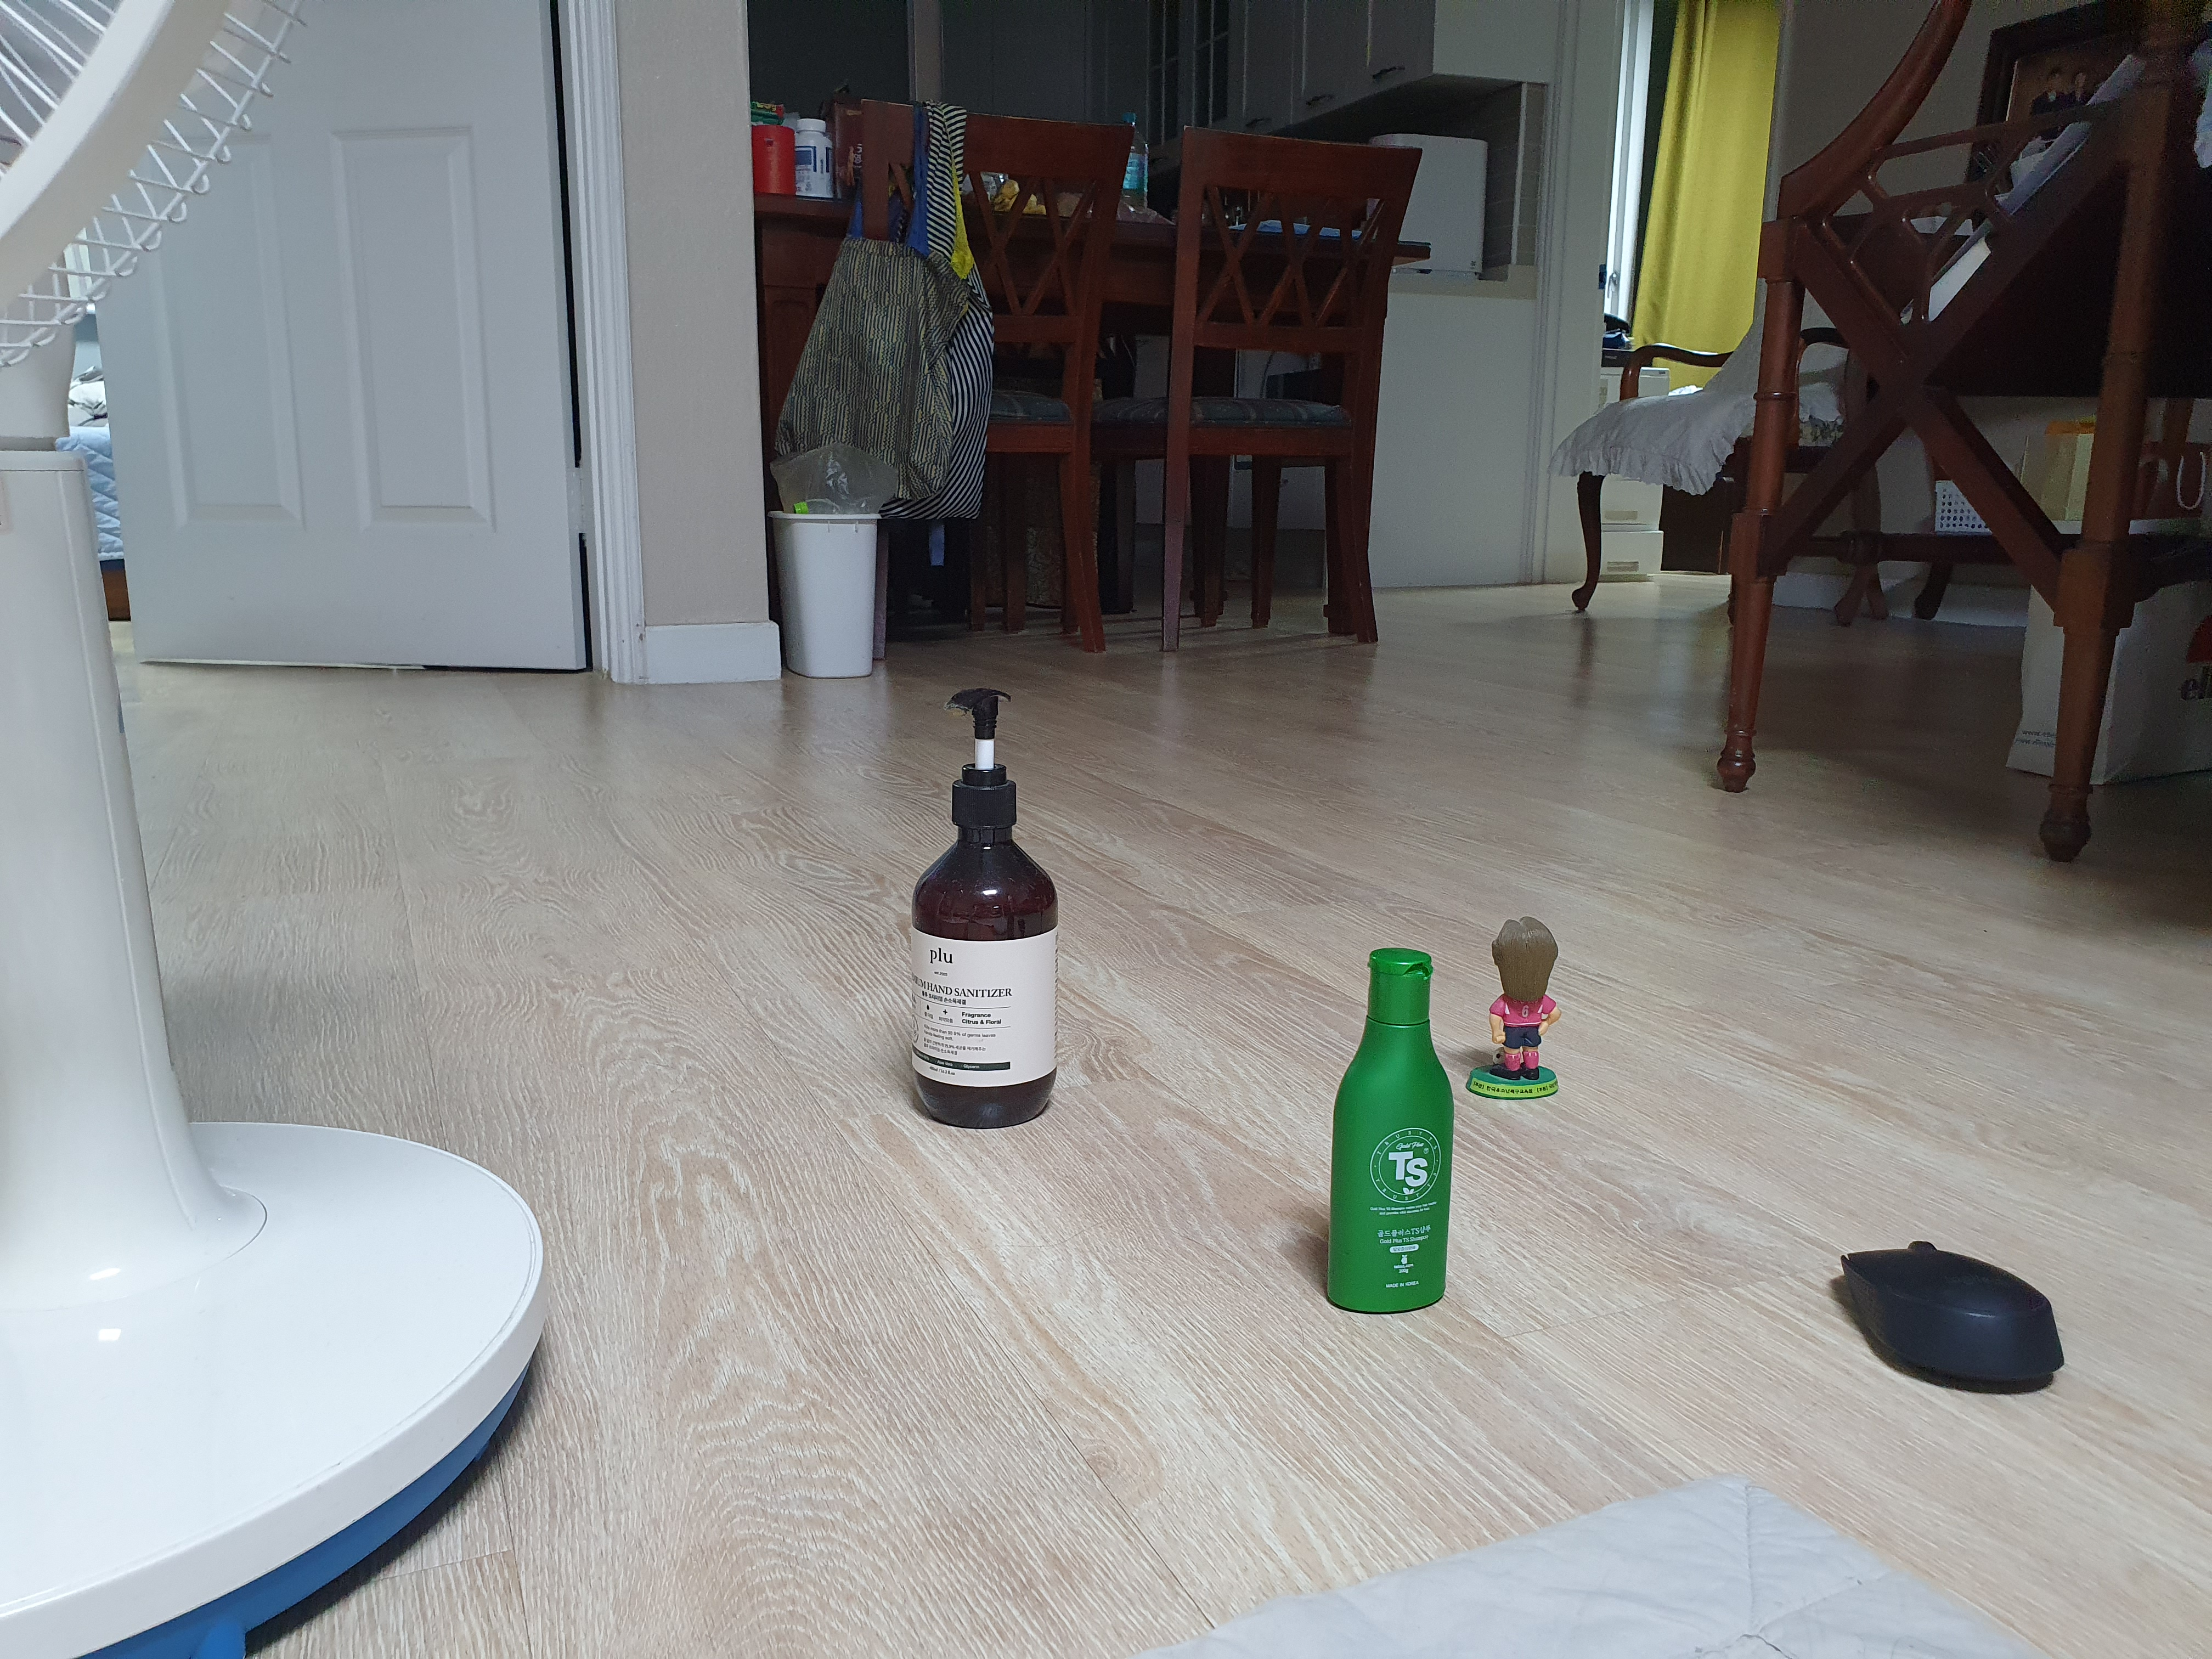bottle: (880, 674, 1120, 1161)
mouse: (1811, 1202, 2099, 1422)
shampoo: (1312, 922, 1467, 1342)
yoo: (1477, 887, 1575, 1119)
